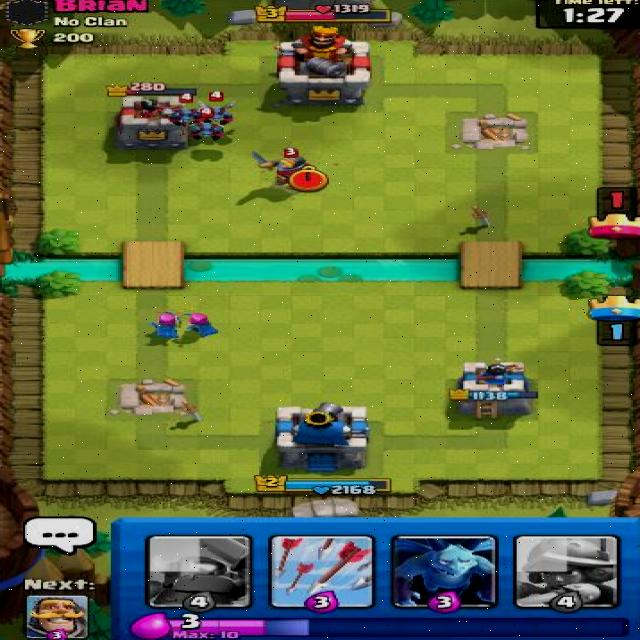Enemy-Knight: (245, 146, 320, 190)
Enemy-Minion: (189, 90, 245, 126), (168, 92, 209, 128), (188, 108, 229, 143)
Player-Archer: (146, 309, 188, 339), (177, 312, 222, 339)
